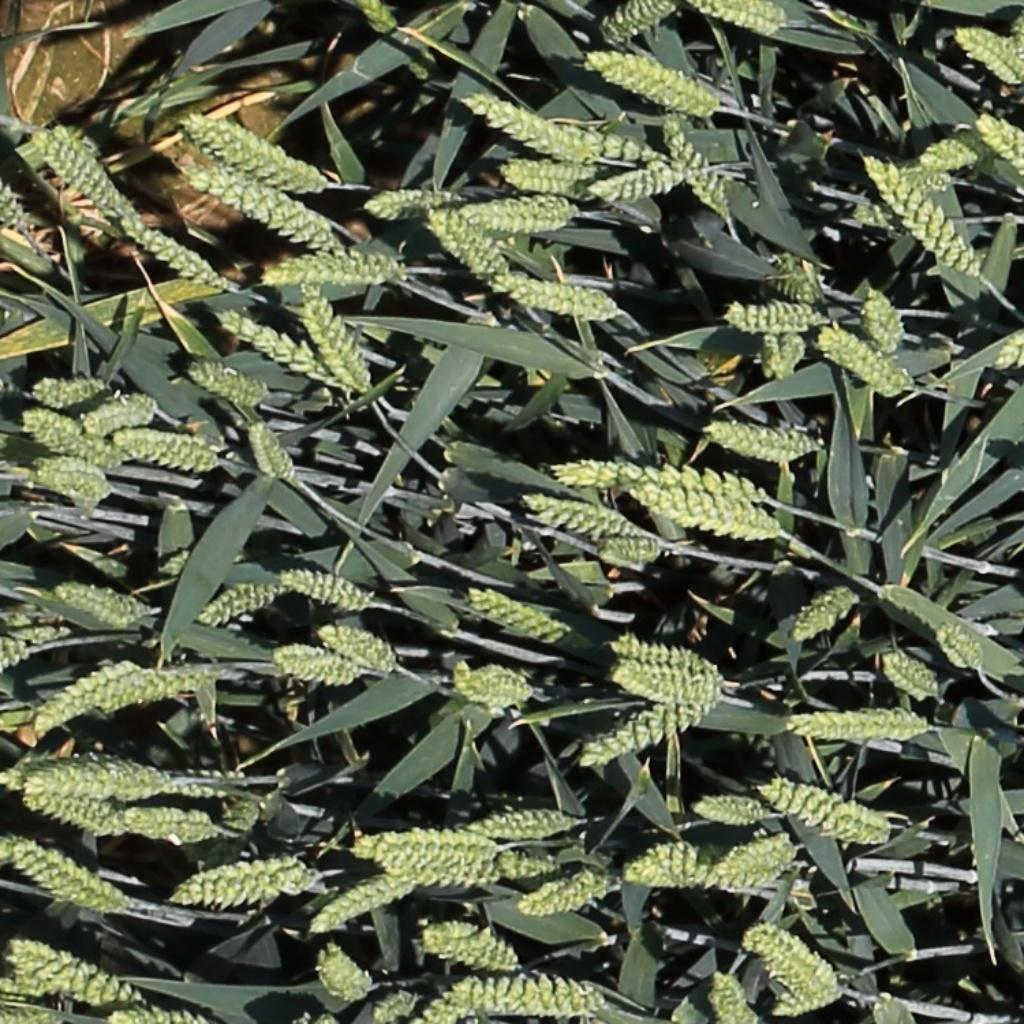0-0: (865, 154, 981, 277), (184, 167, 331, 248), (550, 119, 687, 205), (577, 692, 732, 765), (181, 110, 314, 187), (214, 309, 342, 387), (2, 839, 124, 914), (545, 461, 767, 501), (28, 124, 128, 212), (655, 107, 733, 219), (762, 777, 891, 844), (4, 939, 139, 1003), (293, 283, 367, 393), (468, 91, 588, 156), (629, 487, 784, 537), (587, 50, 714, 111), (650, 844, 804, 892), (257, 246, 410, 293), (463, 975, 636, 1016), (32, 662, 136, 730), (117, 214, 215, 283), (518, 494, 647, 542), (745, 927, 839, 992), (308, 876, 415, 932), (817, 329, 907, 394), (355, 829, 493, 870), (0, 752, 136, 790), (488, 274, 614, 315), (420, 924, 534, 969), (23, 410, 116, 465), (431, 208, 507, 275), (23, 762, 167, 797), (516, 869, 617, 918), (468, 589, 562, 641), (21, 787, 121, 835), (84, 668, 200, 709), (450, 661, 540, 713), (620, 847, 703, 903), (704, 424, 819, 463), (787, 709, 928, 740), (109, 431, 213, 473), (81, 385, 173, 432), (461, 193, 571, 232), (771, 238, 838, 302), (244, 413, 299, 490), (115, 803, 220, 843), (274, 640, 359, 689), (689, 0, 790, 41), (977, 114, 1024, 200), (465, 804, 578, 838), (363, 185, 461, 224), (611, 671, 723, 705), (314, 625, 393, 673), (789, 587, 856, 643), (955, 27, 1024, 81), (498, 157, 593, 196), (53, 584, 144, 623), (184, 359, 266, 402), (312, 940, 370, 1000), (277, 569, 368, 607), (613, 637, 721, 669), (367, 858, 505, 883), (196, 582, 279, 622), (159, 763, 252, 798), (861, 282, 902, 360), (757, 323, 806, 384), (599, 1, 669, 43), (112, 1000, 233, 1024), (880, 653, 940, 700), (23, 375, 102, 410), (723, 305, 821, 333), (933, 621, 985, 673), (720, 838, 791, 875), (693, 790, 770, 824), (0, 172, 35, 238), (772, 983, 839, 1017), (35, 466, 105, 498), (708, 968, 749, 1022), (917, 137, 986, 165), (223, 796, 264, 836), (354, 0, 397, 38), (998, 303, 1024, 363), (36, 461, 105, 483), (370, 992, 417, 1022), (595, 540, 660, 561), (492, 858, 561, 877), (1, 1011, 58, 1024)
